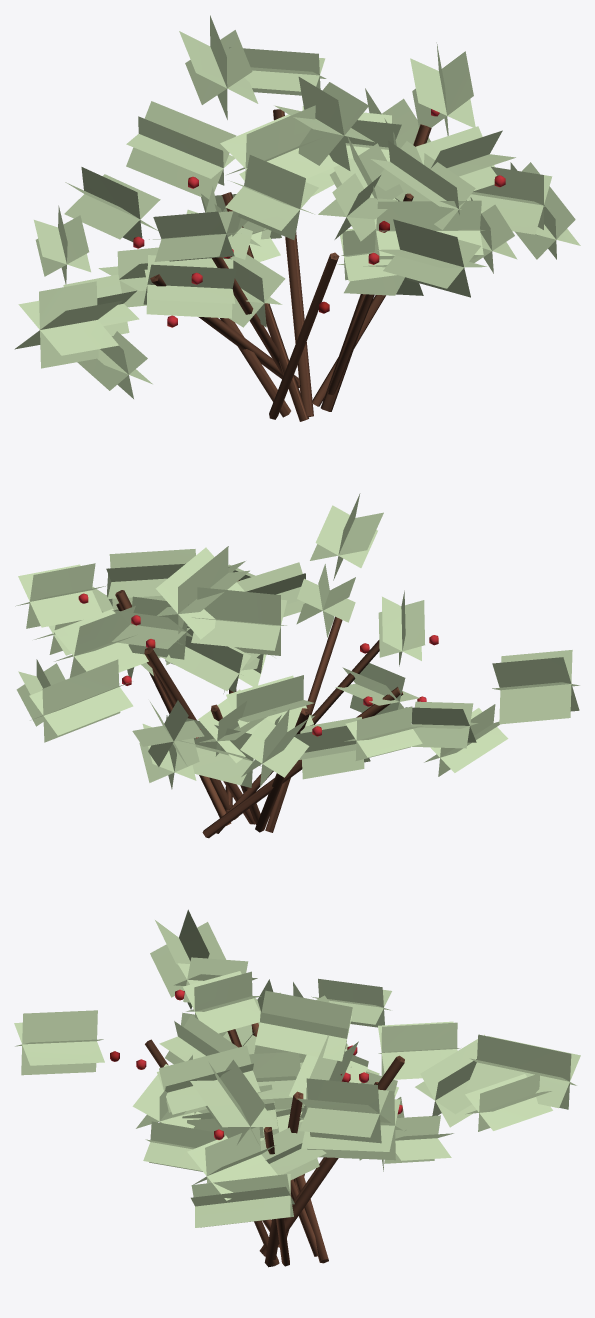
Rendered from mature-lod1.glb.
3 renders of one model, top to bottom at view 1: azimuth 30°, elevation 25°; view 2: azimuth 150°, elevation 25°; view 3: azimuth 270°, elevation 25°, orthographic. The views are drawn at different scales.
Parts seen in each view (by area): view 1: redberry-leaf-sprays, redberry-buried-stems-ground-blend-and-fruit; view 2: redberry-leaf-sprays, redberry-buried-stems-ground-blend-and-fruit; view 3: redberry-leaf-sprays, redberry-buried-stems-ground-blend-and-fruit.
Boxes of the visible parts, box(x1,y1,x2,y2) form: redberry-leaf-sprays: box(14, 15, 580, 398); redberry-buried-stems-ground-blend-and-fruit: box(133, 109, 505, 421); redberry-leaf-sprays: box(15, 493, 579, 789); redberry-buried-stems-ground-blend-and-fruit: box(78, 579, 438, 838); redberry-leaf-sprays: box(14, 909, 580, 1227); redberry-buried-stems-ground-blend-and-fruit: box(110, 989, 404, 1267).
Bounding box in the file's own units: 4.02 × 2.11 × 3.87.
